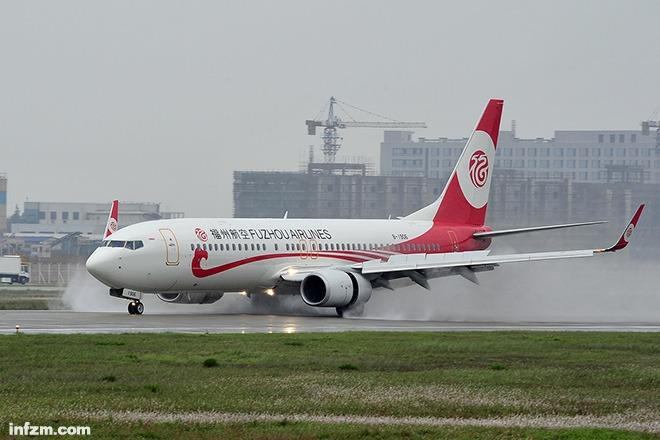airplane: (83, 99, 660, 317)
